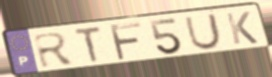5: (148, 17, 184, 56)
F: (107, 21, 144, 62)
K: (224, 10, 260, 46)
R: (31, 30, 78, 70)
T: (72, 24, 104, 65)
U: (182, 12, 223, 51)
